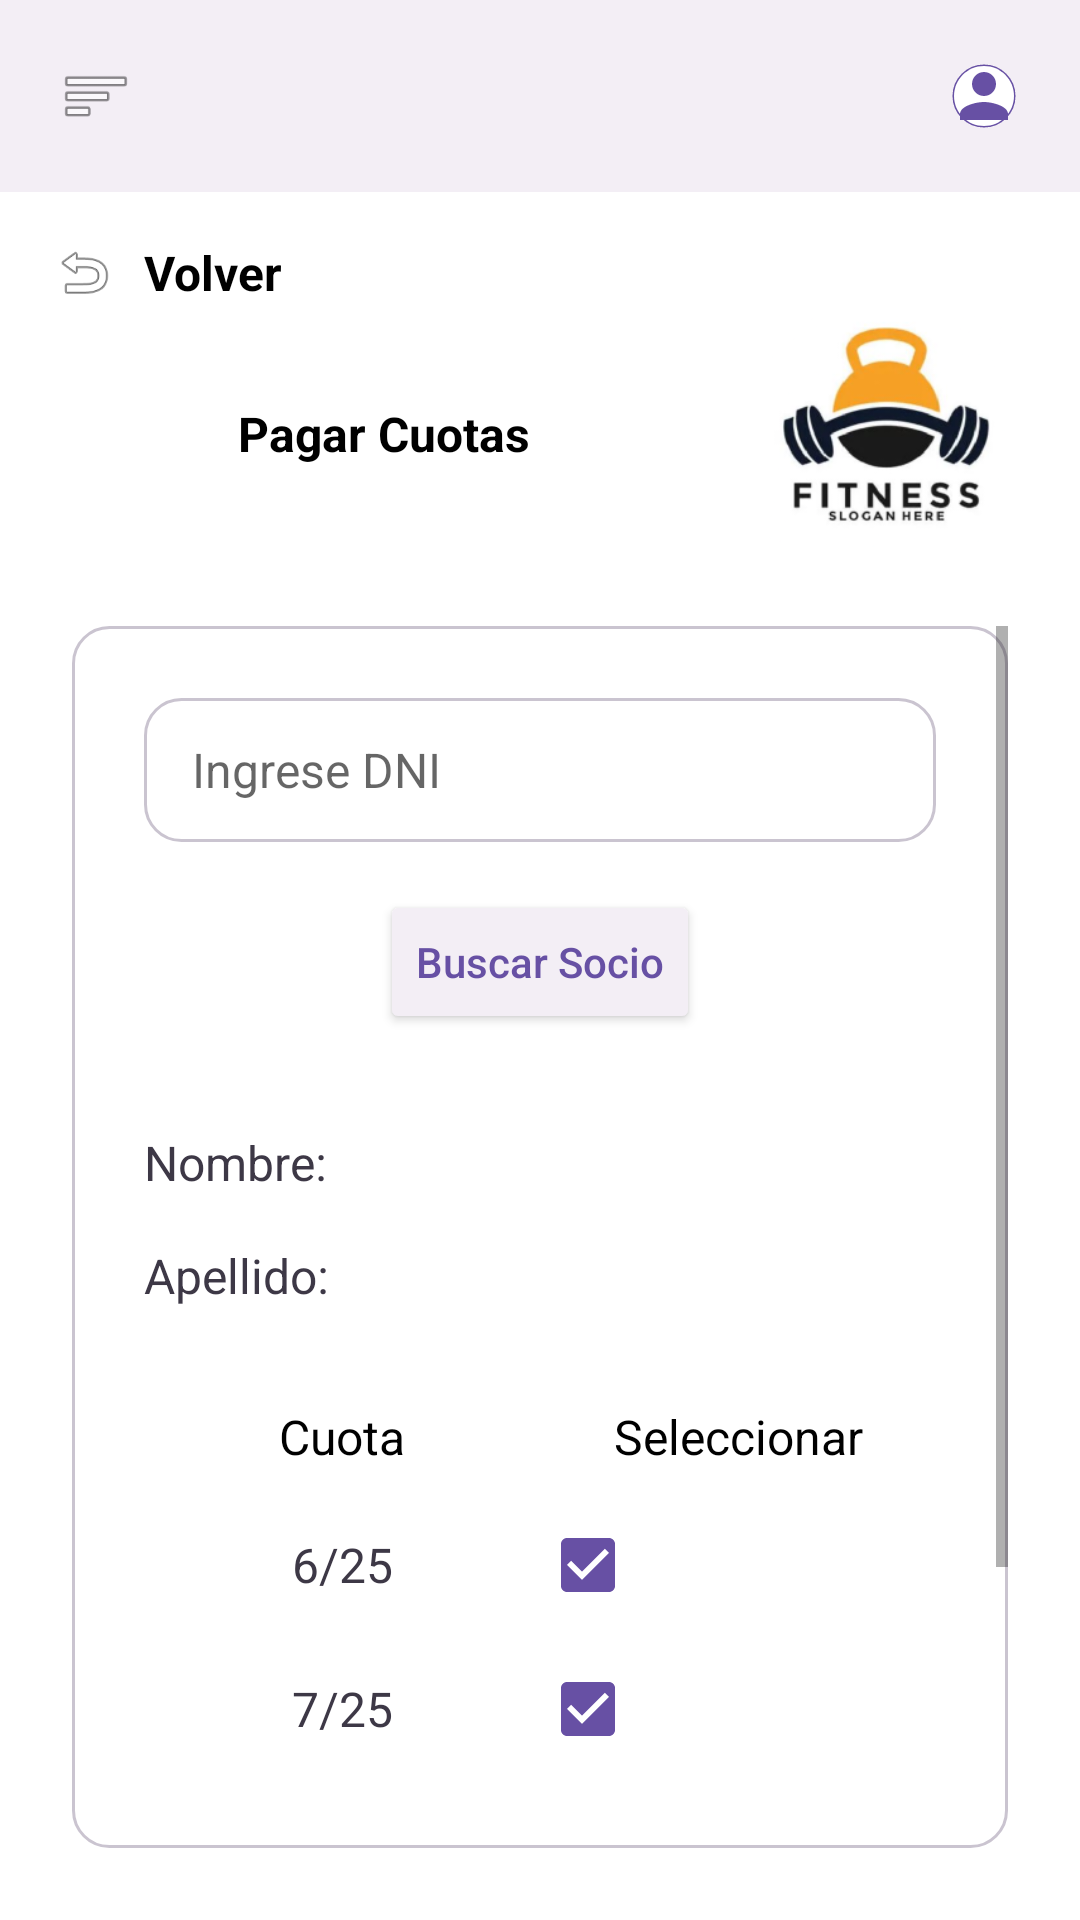

Icon bounding boxes for this 1080px x 1920px phone screenshot, format box(x1, y1, x2, y2):
revert: box(61, 252, 108, 294)
sort by size: box(65, 76, 127, 117)
